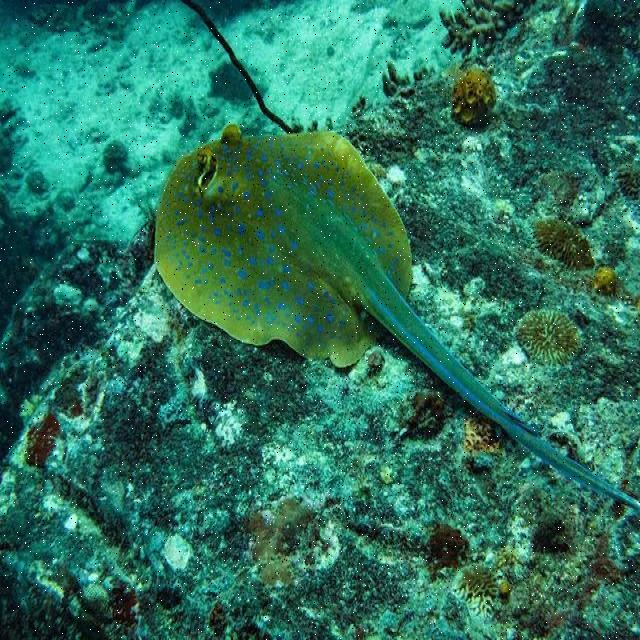fish: (155, 124, 639, 509)
reefs: (512, 306, 580, 367), (450, 562, 513, 623), (534, 219, 596, 272)
sea-floor: (450, 65, 500, 133)
